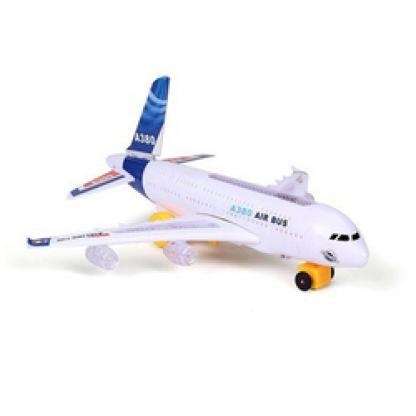CIV_Plane: (26, 73, 370, 300)
